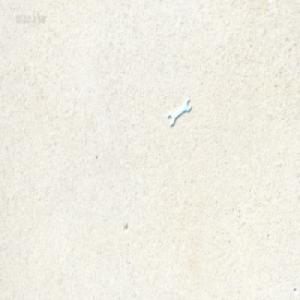Wrench: (165, 96, 188, 125)
